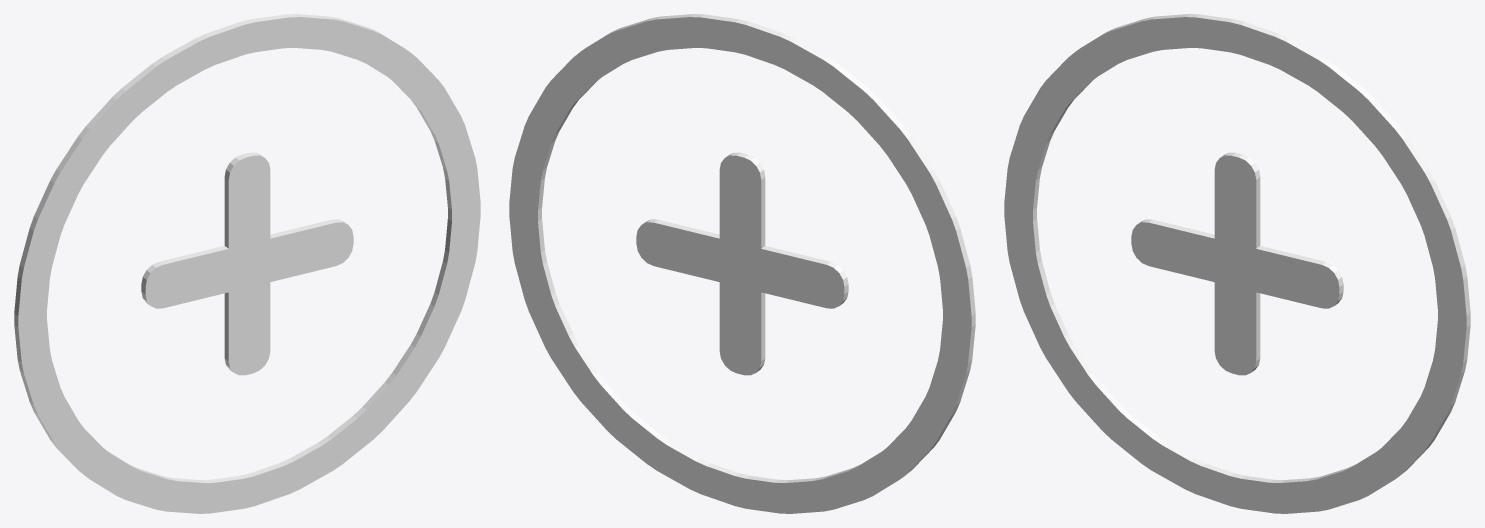
Rendered from Add_Icon.fbx.
3 views of the same model, side by side, from view 1: azimuth 30°, elevation 25°; view 2: azimuth 150°, elevation 25°; view 3: azimuth 330°, elevation 25° (orthographic).
Visible parts, largest first — view 1: Add_3D_Icon_01; view 2: Add_3D_Icon_01; view 3: Add_3D_Icon_01.
Boxes of the visible parts, <box> form: Add_3D_Icon_01: <box>14,14,480,513</box>; Add_3D_Icon_01: <box>509,14,975,513</box>; Add_3D_Icon_01: <box>1004,14,1470,513</box>.
Size of the model in its own units: 122 by 122 by 1.9.
